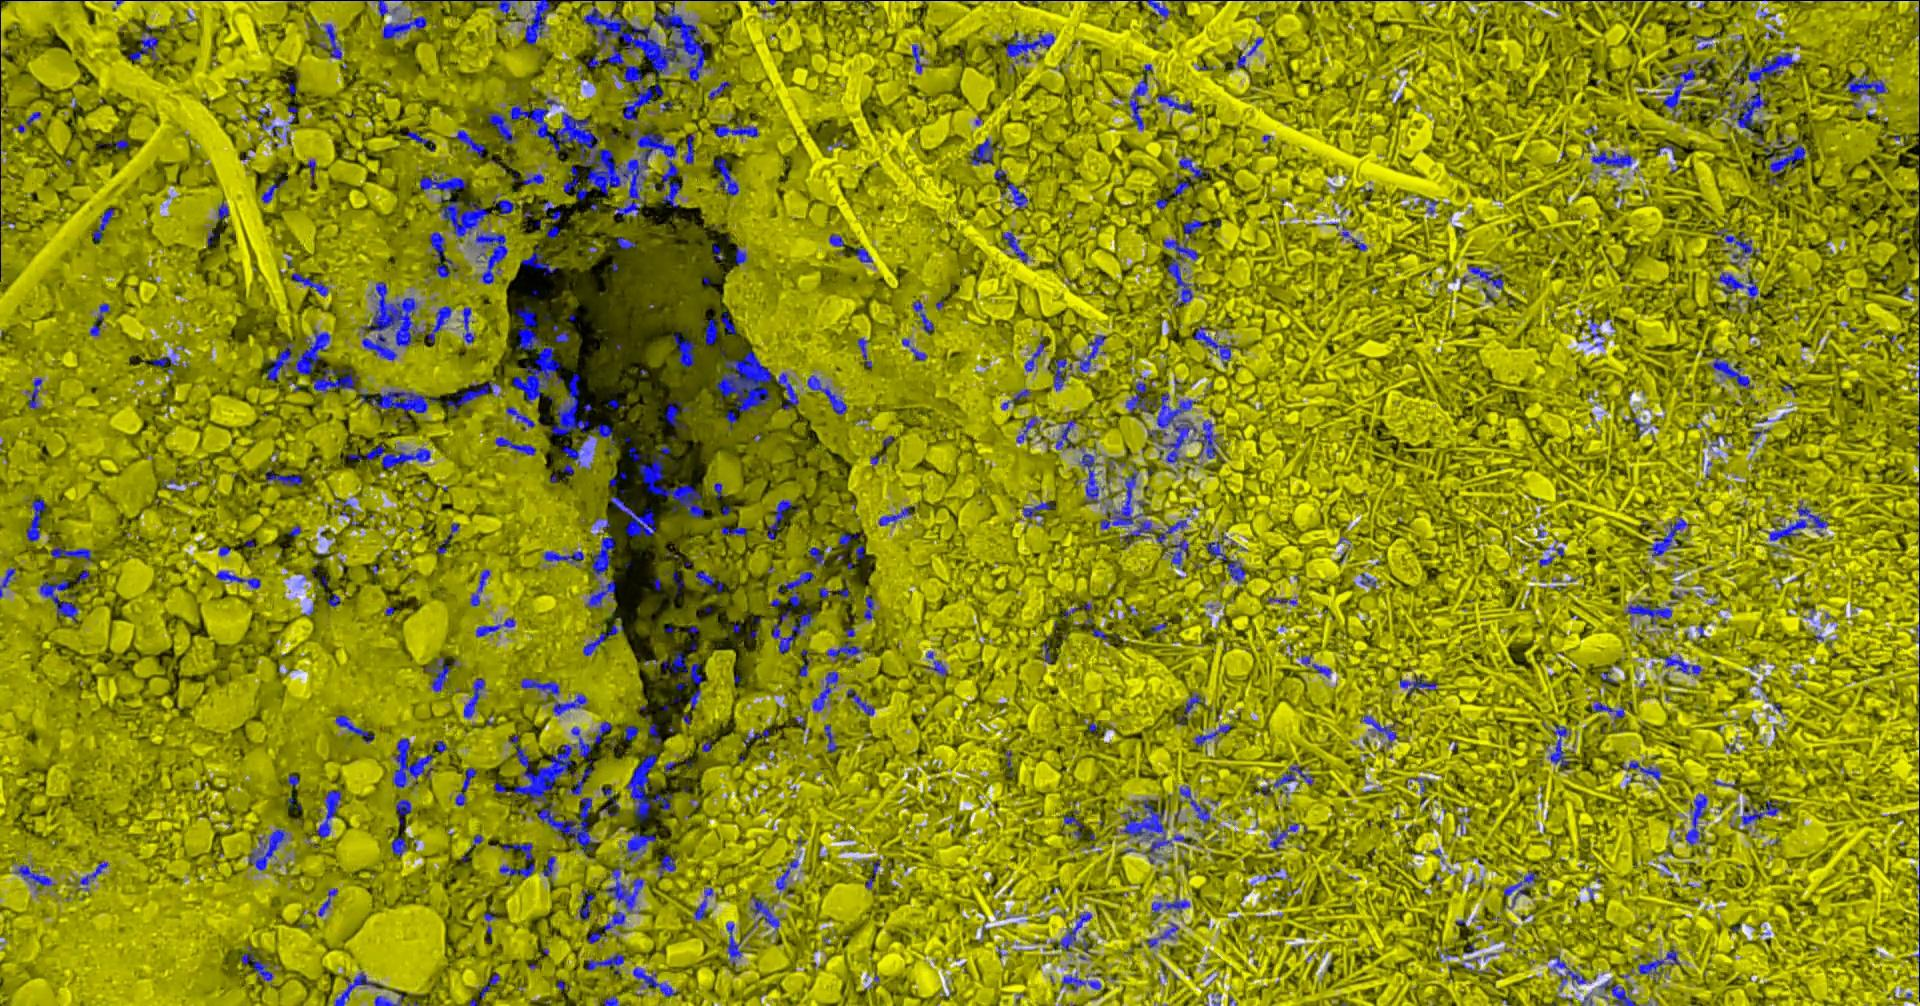ant: (536, 796, 596, 856), (1162, 218, 1203, 305), (1662, 57, 1716, 116), (1098, 467, 1142, 528), (1768, 500, 1829, 540), (551, 373, 589, 434), (1733, 52, 1796, 86), (392, 737, 433, 788), (1728, 91, 1768, 141), (610, 495, 657, 536), (347, 445, 429, 467), (771, 607, 811, 653), (1625, 591, 1680, 624), (1765, 133, 1810, 171), (604, 868, 643, 912), (582, 616, 623, 655), (39, 578, 77, 621), (1714, 227, 1760, 263), (475, 232, 507, 283), (1647, 517, 1688, 556), (444, 381, 497, 412), (1172, 155, 1208, 199), (1004, 30, 1054, 62), (1707, 357, 1752, 391), (806, 375, 846, 414), (622, 81, 663, 119), (248, 829, 286, 870), (523, 0, 557, 44), (1192, 326, 1232, 365), (662, 652, 702, 688), (370, 391, 437, 413), (333, 970, 375, 1005), (1637, 948, 1680, 981), (1057, 911, 1091, 951), (1079, 447, 1103, 504), (429, 231, 458, 278), (1178, 785, 1215, 822), (1272, 763, 1313, 796), (240, 945, 273, 986), (766, 499, 799, 539), (632, 967, 677, 996), (1549, 955, 1585, 991), (498, 842, 535, 876), (1718, 271, 1757, 302), (777, 572, 813, 606), (587, 911, 625, 942), (382, 11, 425, 39), (312, 367, 359, 392), (1503, 870, 1538, 904), (825, 627, 861, 661), (316, 789, 340, 837), (1189, 420, 1219, 459), (1685, 793, 1707, 845), (521, 245, 557, 276), (1361, 714, 1396, 746), (1076, 334, 1105, 371), (335, 714, 373, 742), (590, 533, 615, 577), (811, 671, 837, 711), (1843, 74, 1884, 98), (1740, 800, 1782, 824), (703, 312, 735, 344), (128, 25, 157, 60), (1128, 77, 1147, 130), (1597, 981, 1638, 1005), (712, 158, 738, 196), (1549, 724, 1570, 771), (1121, 520, 1154, 547), (750, 895, 778, 929), (423, 657, 450, 691), (625, 831, 655, 860), (1467, 265, 1503, 290), (1002, 229, 1027, 263), (290, 272, 328, 295), (1192, 723, 1230, 746), (1622, 760, 1660, 782), (13, 864, 51, 887), (1150, 895, 1189, 918), (317, 23, 342, 58), (453, 130, 484, 158), (1399, 673, 1436, 696), (1145, 922, 1178, 948), (569, 760, 593, 794), (25, 498, 44, 541), (1658, 655, 1702, 674), (455, 767, 476, 805), (585, 953, 623, 974), (79, 861, 107, 890), (664, 399, 691, 429), (215, 570, 260, 588), (1177, 694, 1204, 724), (463, 677, 484, 716), (776, 372, 797, 409), (1015, 415, 1044, 442), (585, 580, 615, 607), (912, 298, 933, 334), (775, 857, 797, 890), (495, 436, 535, 455), (475, 617, 514, 636), (469, 569, 489, 606), (846, 688, 874, 715), (1269, 822, 1297, 848), (91, 207, 113, 241), (552, 694, 587, 715), (1156, 520, 1187, 542), (1137, 0, 1170, 22), (673, 333, 695, 366), (969, 137, 994, 165), (505, 406, 535, 431), (1156, 94, 1192, 113), (1023, 337, 1044, 371), (592, 423, 615, 453), (50, 545, 91, 561), (725, 922, 742, 964), (89, 304, 110, 335), (542, 199, 560, 238), (521, 677, 559, 695), (1062, 972, 1100, 989), (695, 570, 723, 594), (265, 469, 302, 486), (877, 506, 912, 525), (1591, 150, 1630, 166), (1592, 699, 1624, 719), (1166, 539, 1189, 567), (1001, 387, 1030, 409), (1051, 357, 1070, 390), (714, 123, 758, 137), (406, 130, 434, 151), (1055, 419, 1076, 448), (695, 887, 712, 920), (477, 973, 500, 998), (561, 443, 588, 465), (598, 788, 618, 815), (1063, 809, 1082, 838), (317, 887, 337, 916), (1022, 500, 1055, 517), (578, 889, 596, 920), (262, 179, 284, 202), (491, 196, 514, 218), (17, 111, 41, 132), (1006, 183, 1027, 207), (543, 550, 583, 563), (25, 377, 41, 408), (910, 44, 927, 72), (744, 728, 770, 746), (0, 568, 15, 597), (865, 857, 879, 889), (1203, 541, 1225, 560), (1225, 560, 1244, 583), (657, 854, 676, 876), (707, 81, 731, 99), (857, 337, 871, 367), (1063, 602, 1091, 617), (151, 356, 177, 372), (395, 799, 411, 824), (592, 721, 611, 743), (462, 307, 474, 343), (823, 724, 837, 752), (603, 44, 623, 64), (838, 532, 863, 547), (623, 65, 643, 83), (377, 0, 397, 17), (683, 133, 695, 163), (375, 993, 404, 1005), (670, 572, 684, 594), (1246, 37, 1263, 55), (391, 836, 406, 856), (648, 721, 660, 746), (926, 661, 947, 674), (483, 912, 497, 934), (853, 246, 872, 262), (1078, 940, 1093, 959), (1693, 36, 1713, 50), (1589, 318, 1603, 338), (1310, 663, 1331, 677), (542, 855, 555, 876), (808, 546, 824, 563), (497, 0, 516, 14), (616, 235, 636, 248), (552, 325, 568, 342), (1359, 572, 1375, 587), (522, 173, 543, 184), (720, 526, 747, 535), (623, 724, 637, 741), (863, 593, 872, 619), (1004, 749, 1013, 775), (1267, 597, 1297, 605), (725, 410, 737, 429), (829, 232, 844, 246), (436, 539, 450, 554), (108, 138, 128, 149), (690, 688, 700, 709), (734, 246, 745, 264), (910, 347, 926, 359), (1043, 641, 1051, 663), (217, 202, 229, 218), (307, 159, 315, 183), (993, 166, 1006, 180), (602, 995, 618, 1005), (286, 774, 298, 786), (328, 593, 339, 606), (855, 545, 863, 559)
